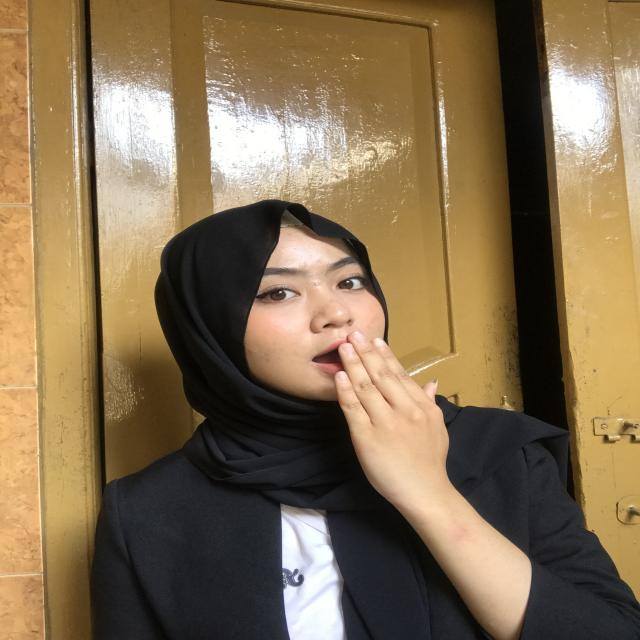ngantuk: (322, 322, 464, 505)
